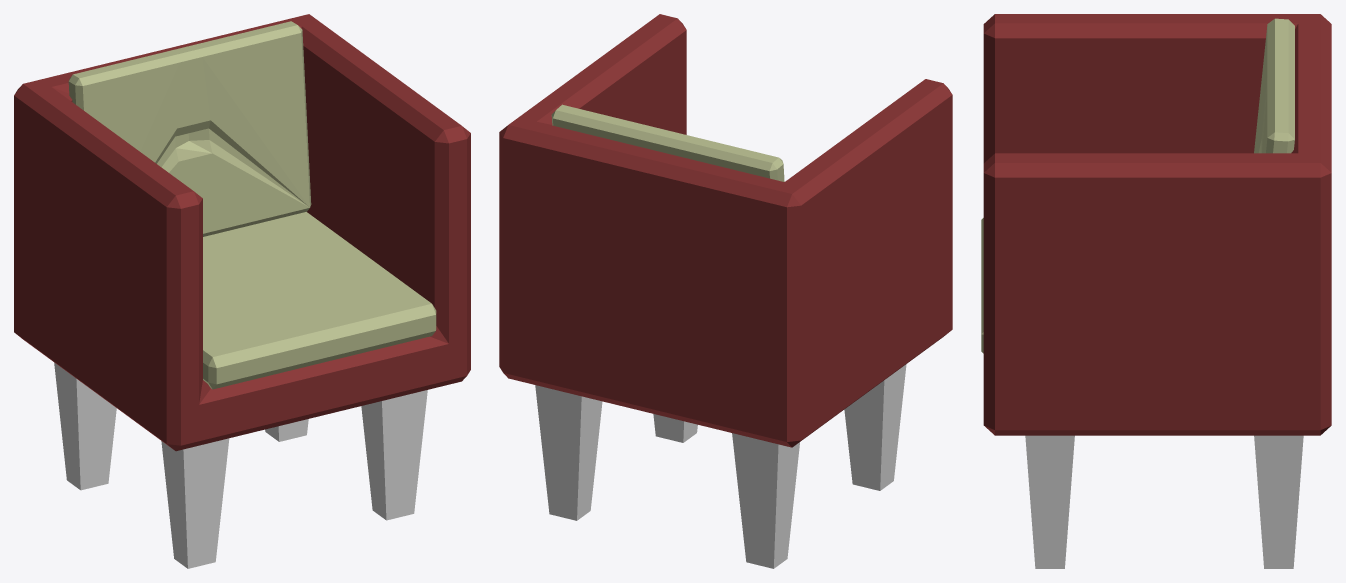
The model's file is Single Sofa for Lobby V4.fbx.
The picture shows the model from 3 angles, left to right: view 1: azimuth 30°, elevation 25°; view 2: azimuth 150°, elevation 25°; view 3: azimuth 270°, elevation 25°; orthographic projection. The views are drawn at different scales.
Parts seen in each view (by area): view 1: Single_Sofa; view 2: Single_Sofa; view 3: Single_Sofa.
Part boxes in pixels (x1=…): Single_Sofa: x1=14, y1=14, x2=470, y2=568; Single_Sofa: x1=499, y1=14, x2=952, y2=568; Single_Sofa: x1=981, y1=14, x2=1331, y2=568.
Bounding box in the file's own units: 7.8 × 9.98 × 7.3.
